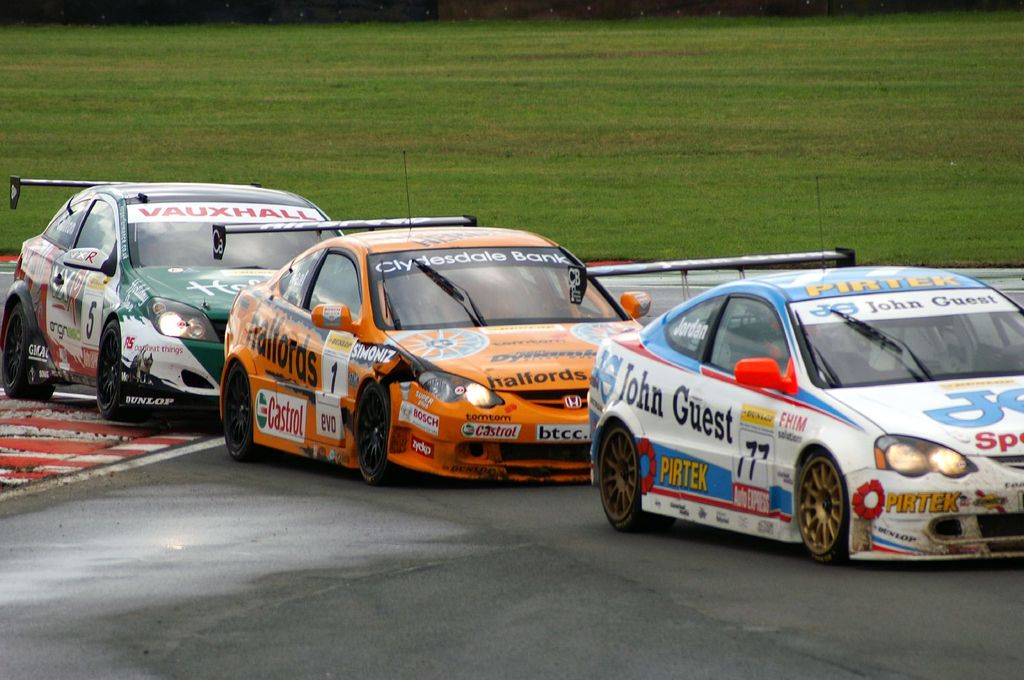mobil: (608, 239, 1023, 572), (219, 219, 635, 479), (1, 178, 342, 425)
